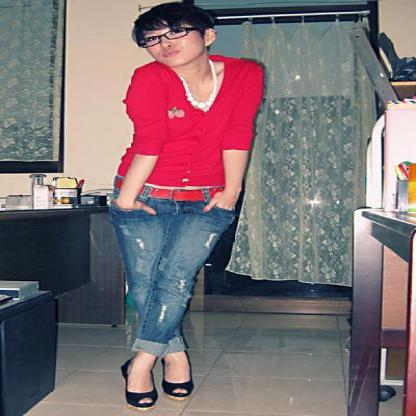jacket: (118, 56, 263, 190)
pants: (100, 191, 233, 356)
shoe: (123, 374, 192, 407)
